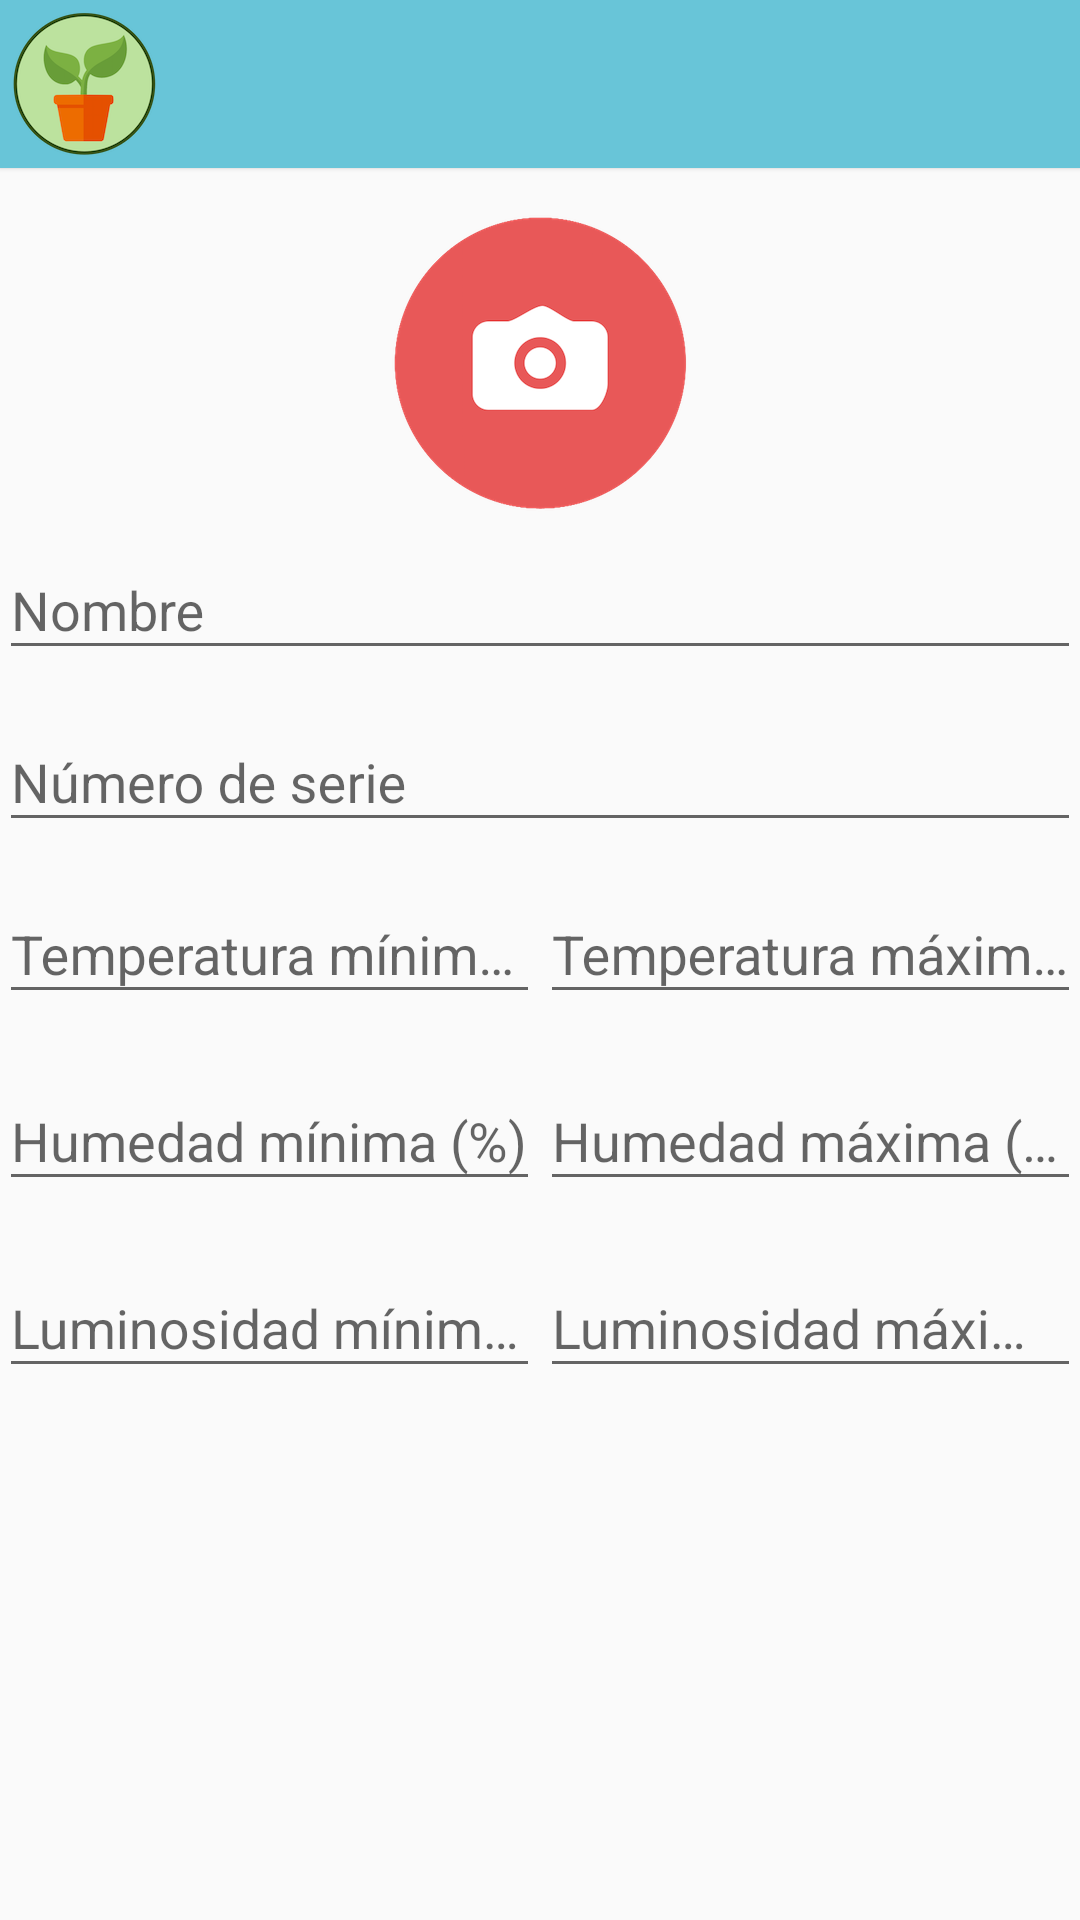

Point at icon controls on the screen. Image size 1080×1920, points as [x,y].
add photo: [540,363]
